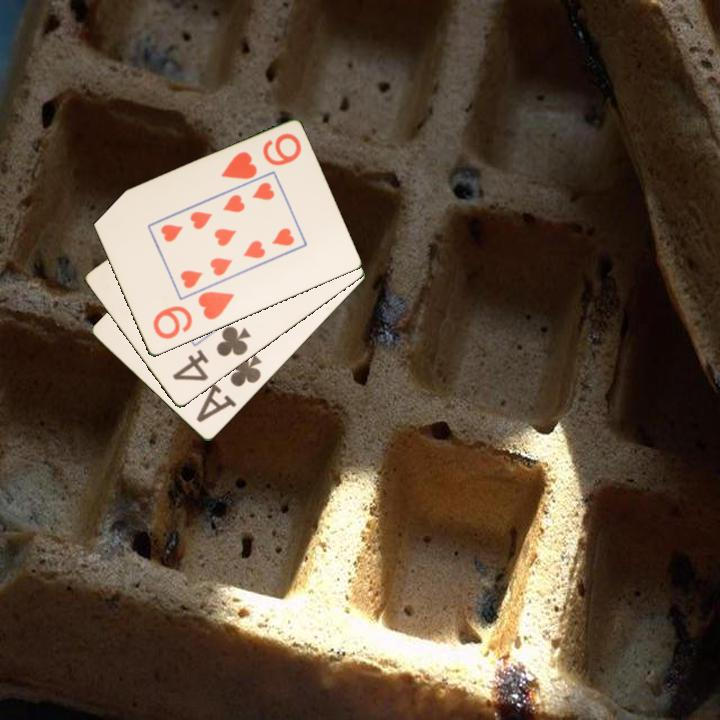4c: (169, 323, 254, 385)
9h: (149, 288, 237, 343), (217, 130, 304, 183)
Ac: (192, 351, 265, 426)
